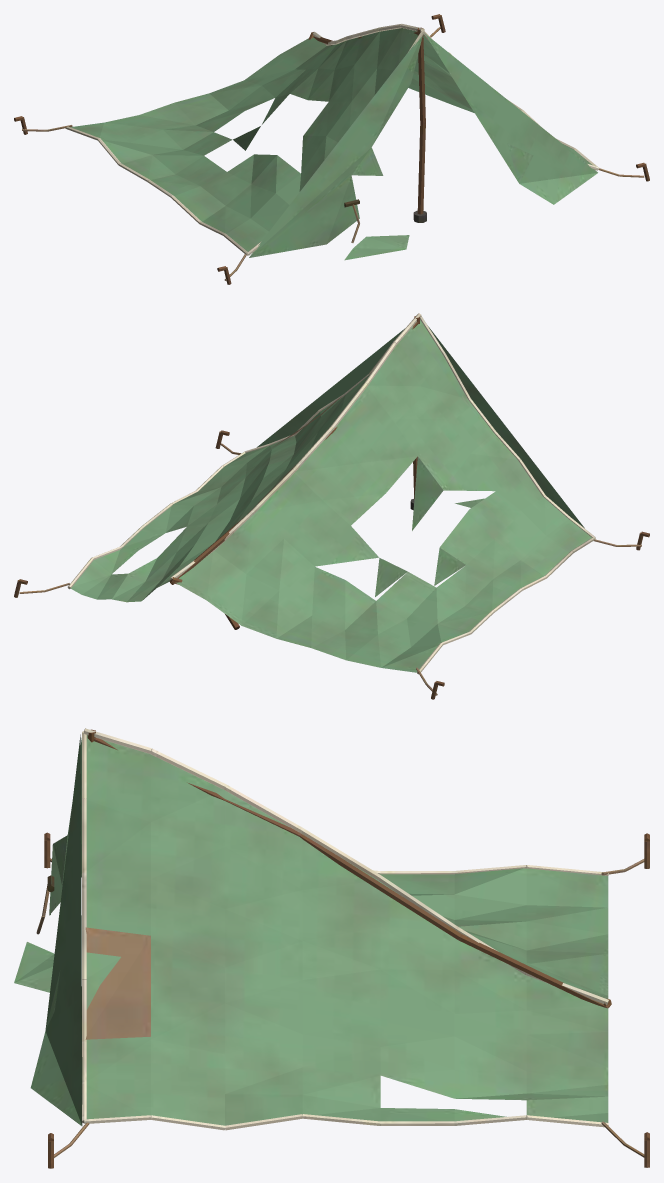
Rendered from BR22_torn_tent.glb.
The picture shows the model from 3 angles, top to bottom: view 1: azimuth 30°, elevation 25°; view 2: azimuth 150°, elevation 25°; view 3: azimuth 270°, elevation 25°; orthographic projection. The views are drawn at different scales.
Visible parts, largest first — view 1: Left torn canvas; view 2: Left torn canvas; view 3: Left torn canvas.
Part boxes in pixels (x1=…): Left torn canvas: x1=14, y1=14, x2=649, y2=284; Left torn canvas: x1=14, y1=313, x2=649, y2=699; Left torn canvas: x1=14, y1=728, x2=649, y2=1168.
Bounding box in the file's own units: 4 × 1.73 × 3.47.
Materials: 7 (7 with a texture image).
